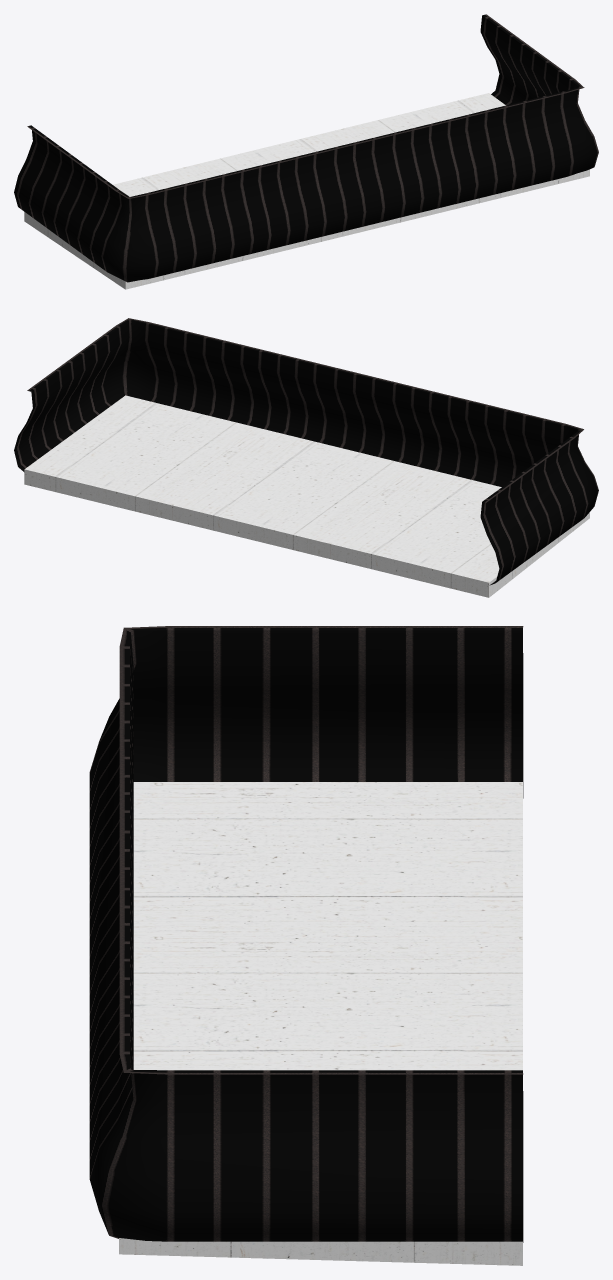
File: GeschwungenGeländer.glb
The picture shows the model from 3 angles, top to bottom: view 1: azimuth 30°, elevation 25°; view 2: azimuth 150°, elevation 25°; view 3: azimuth 270°, elevation 25°; orthographic projection. The views are drawn at different scales.
Visible parts, largest first — view 1: Plane, Cube; view 2: Plane, Cube; view 3: Plane, Cube.
Boxes of the visible parts, bbox=[...] form: Plane: bbox=[14, 14, 598, 282]; Cube: bbox=[24, 93, 589, 289]; Plane: bbox=[14, 318, 598, 585]; Cube: bbox=[24, 395, 589, 597]; Plane: bbox=[89, 626, 523, 1242]; Cube: bbox=[119, 782, 522, 1265].
Bounding box in the file's own units: 6.27 × 1.17 × 2.42.
Materials: 2 (2 with a texture image).
